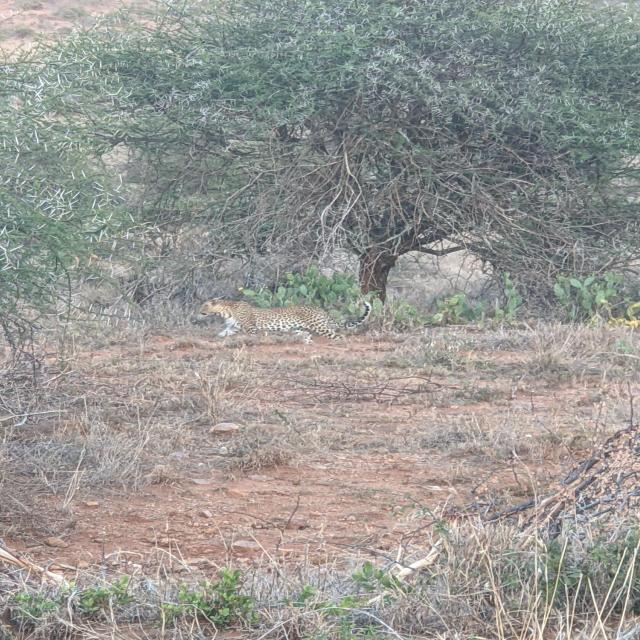Leopard: (198, 292, 362, 344)
